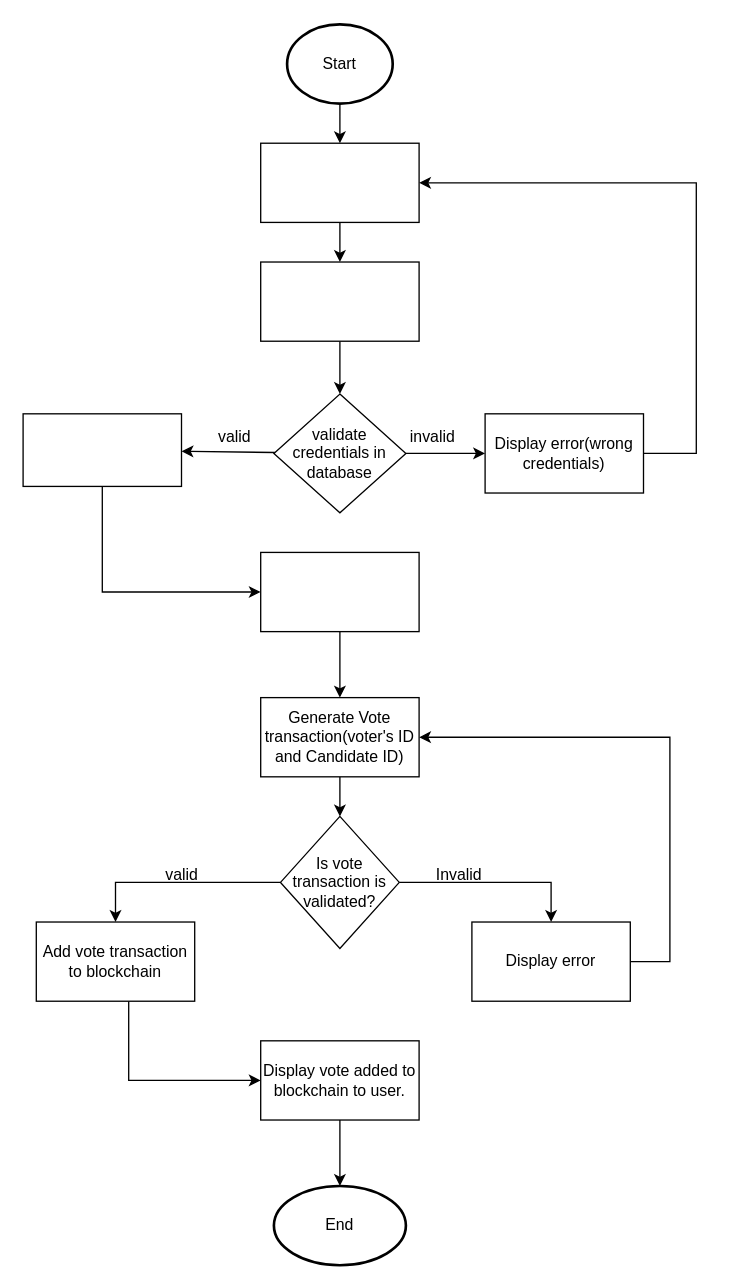
This 730x1288 diagram has some shape labels left out. Each missing label, with the centre of its shape:
"Navigate to voting page" goes at point (102, 449).
"Send login credentials to backend" goes at point (339, 301).
"Voter Register/Login" goes at point (339, 182).
"Voter selects candidate to vote" goes at point (339, 591).
